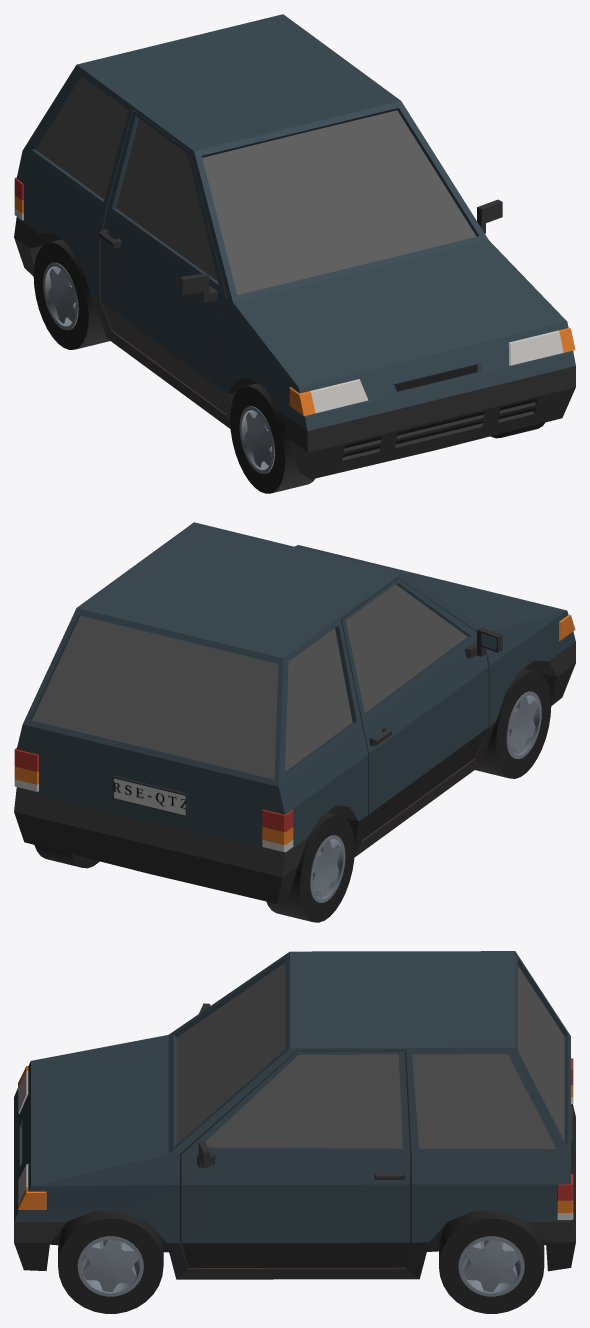
Rendered from cocheSteven.obj.
3 renders of one model, top to bottom at view 1: azimuth 30°, elevation 25°; view 2: azimuth 150°, elevation 25°; view 3: azimuth 270°, elevation 25°, orthographic. The views are drawn at different scales.
Visible parts, largest first — view 1: car_body_Circle_073, windows_Circle_074, door_r_Circle_071, win_door_r_001_Circle_075, llanta003, llanta004; view 2: car_body_Circle_073, windows_Circle_074, door_r_Circle_071, win_door_r_001_Circle_075, llanta004, llanta003, free_number_Circle_001, llanta002; view 3: car_body_Circle_073, door_l_Circle_072, windows_Circle_074, win_door_l_001_Circle_076, llanta001, llanta002.
Part boxes in pixels (x1=…): car_body_Circle_073: x1=14, y1=14, x2=575, y2=479; windows_Circle_074: x1=36, y1=76, x2=476, y2=294; door_r_Circle_071: x1=99, y1=110, x2=226, y2=413; win_door_r_001_Circle_075: x1=116, y1=118, x2=217, y2=281; llanta003: x1=230, y1=383, x2=315, y2=493; llanta004: x1=33, y1=239, x2=109, y2=349; car_body_Circle_073: x1=14, y1=522, x2=575, y2=903; windows_Circle_074: x1=32, y1=615, x2=352, y2=779; door_r_Circle_071: x1=341, y1=578, x2=502, y2=839; win_door_r_001_Circle_075: x1=346, y1=584, x2=467, y2=712; llanta004: x1=266, y1=812, x2=354, y2=922; llanta003: x1=475, y1=668, x2=551, y2=778; free_number_Circle_001: x1=112, y1=775, x2=188, y2=817; llanta002: x1=34, y1=845, x2=99, y2=868; car_body_Circle_073: x1=14, y1=951, x2=575, y2=1279; door_l_Circle_072: x1=180, y1=1051, x2=411, y2=1268; windows_Circle_074: x1=176, y1=963, x2=564, y2=1148; win_door_l_001_Circle_076: x1=205, y1=1054, x2=402, y2=1148; llanta001: x1=58, y1=1211, x2=163, y2=1313; llanta002: x1=439, y1=1211, x2=544, y2=1313.
Size of the model in its own units: 2.18 by 1.71 by 3.46.
3 materials, 3 textured.
